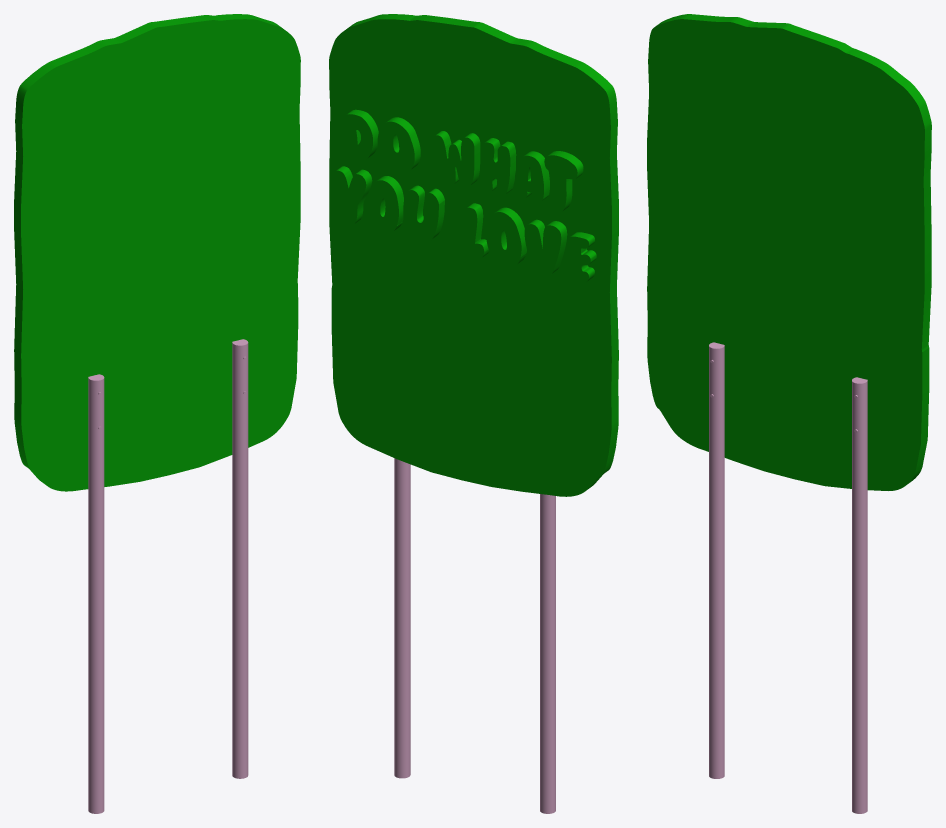
3 renders of one model, left to right at view 1: azimuth 30°, elevation 25°; view 2: azimuth 150°, elevation 25°; view 3: azimuth 330°, elevation 25°, orthographic.
Visible parts, largest first — view 1: Extrudieren_1; view 2: Extrudieren_1; view 3: Extrudieren_1.
Part boxes in pixels (<box>): Extrudieren_1: <box>14,14,300,813</box>; Extrudieren_1: <box>329,14,618,813</box>; Extrudieren_1: <box>647,14,931,813</box>.
Size of the model in its own units: 2.23 by 5.84 by 0.2895.
